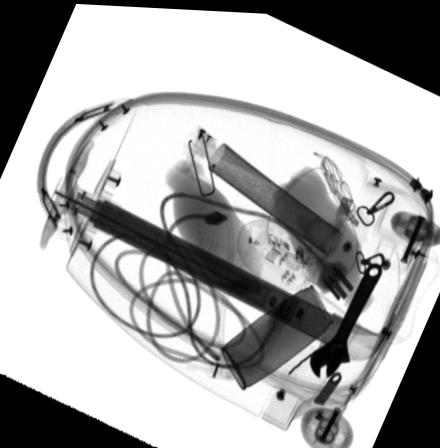Wrench: (310, 258, 382, 375)
